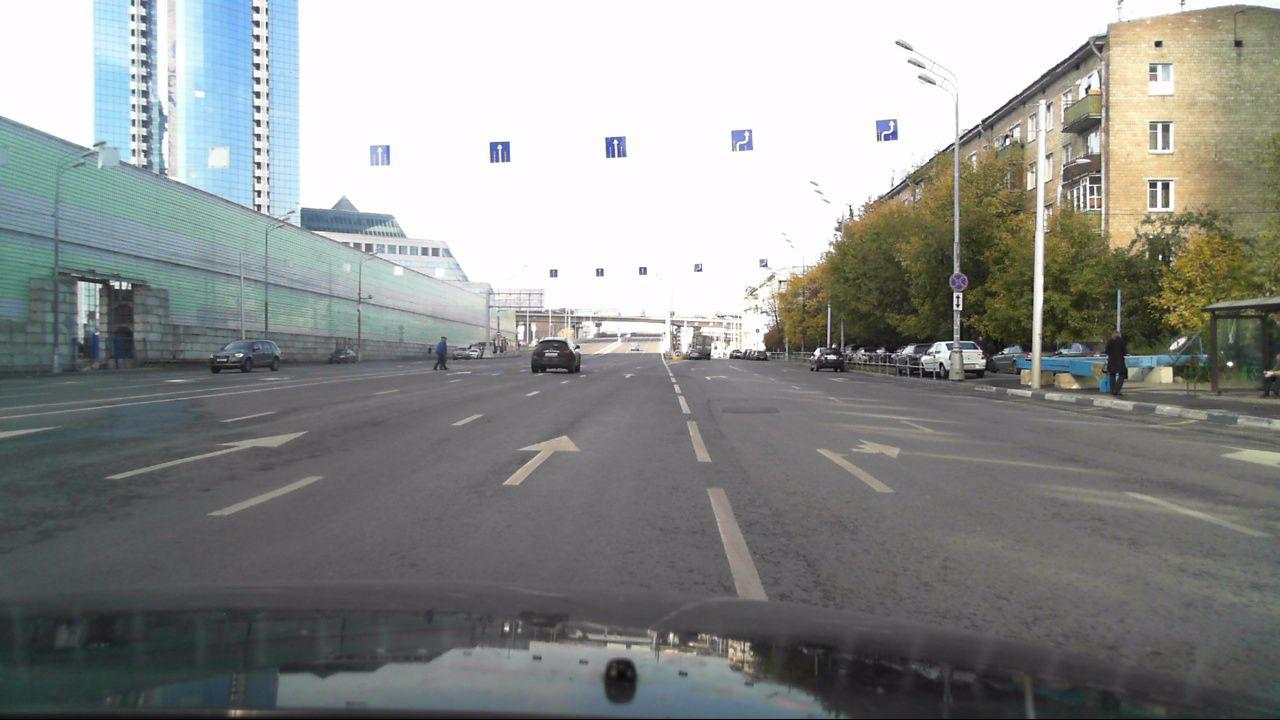3_27: (950, 272, 969, 291)
4_2_3: (675, 350, 681, 357)
5_15_2: (874, 119, 900, 142), (489, 140, 513, 164), (606, 135, 629, 159), (729, 129, 753, 152), (369, 144, 392, 167), (549, 269, 559, 280), (638, 266, 648, 277), (758, 258, 768, 269), (594, 267, 604, 277), (694, 263, 703, 273)
8_22_3: (676, 327, 682, 347)
8_2_4: (953, 292, 963, 311)
